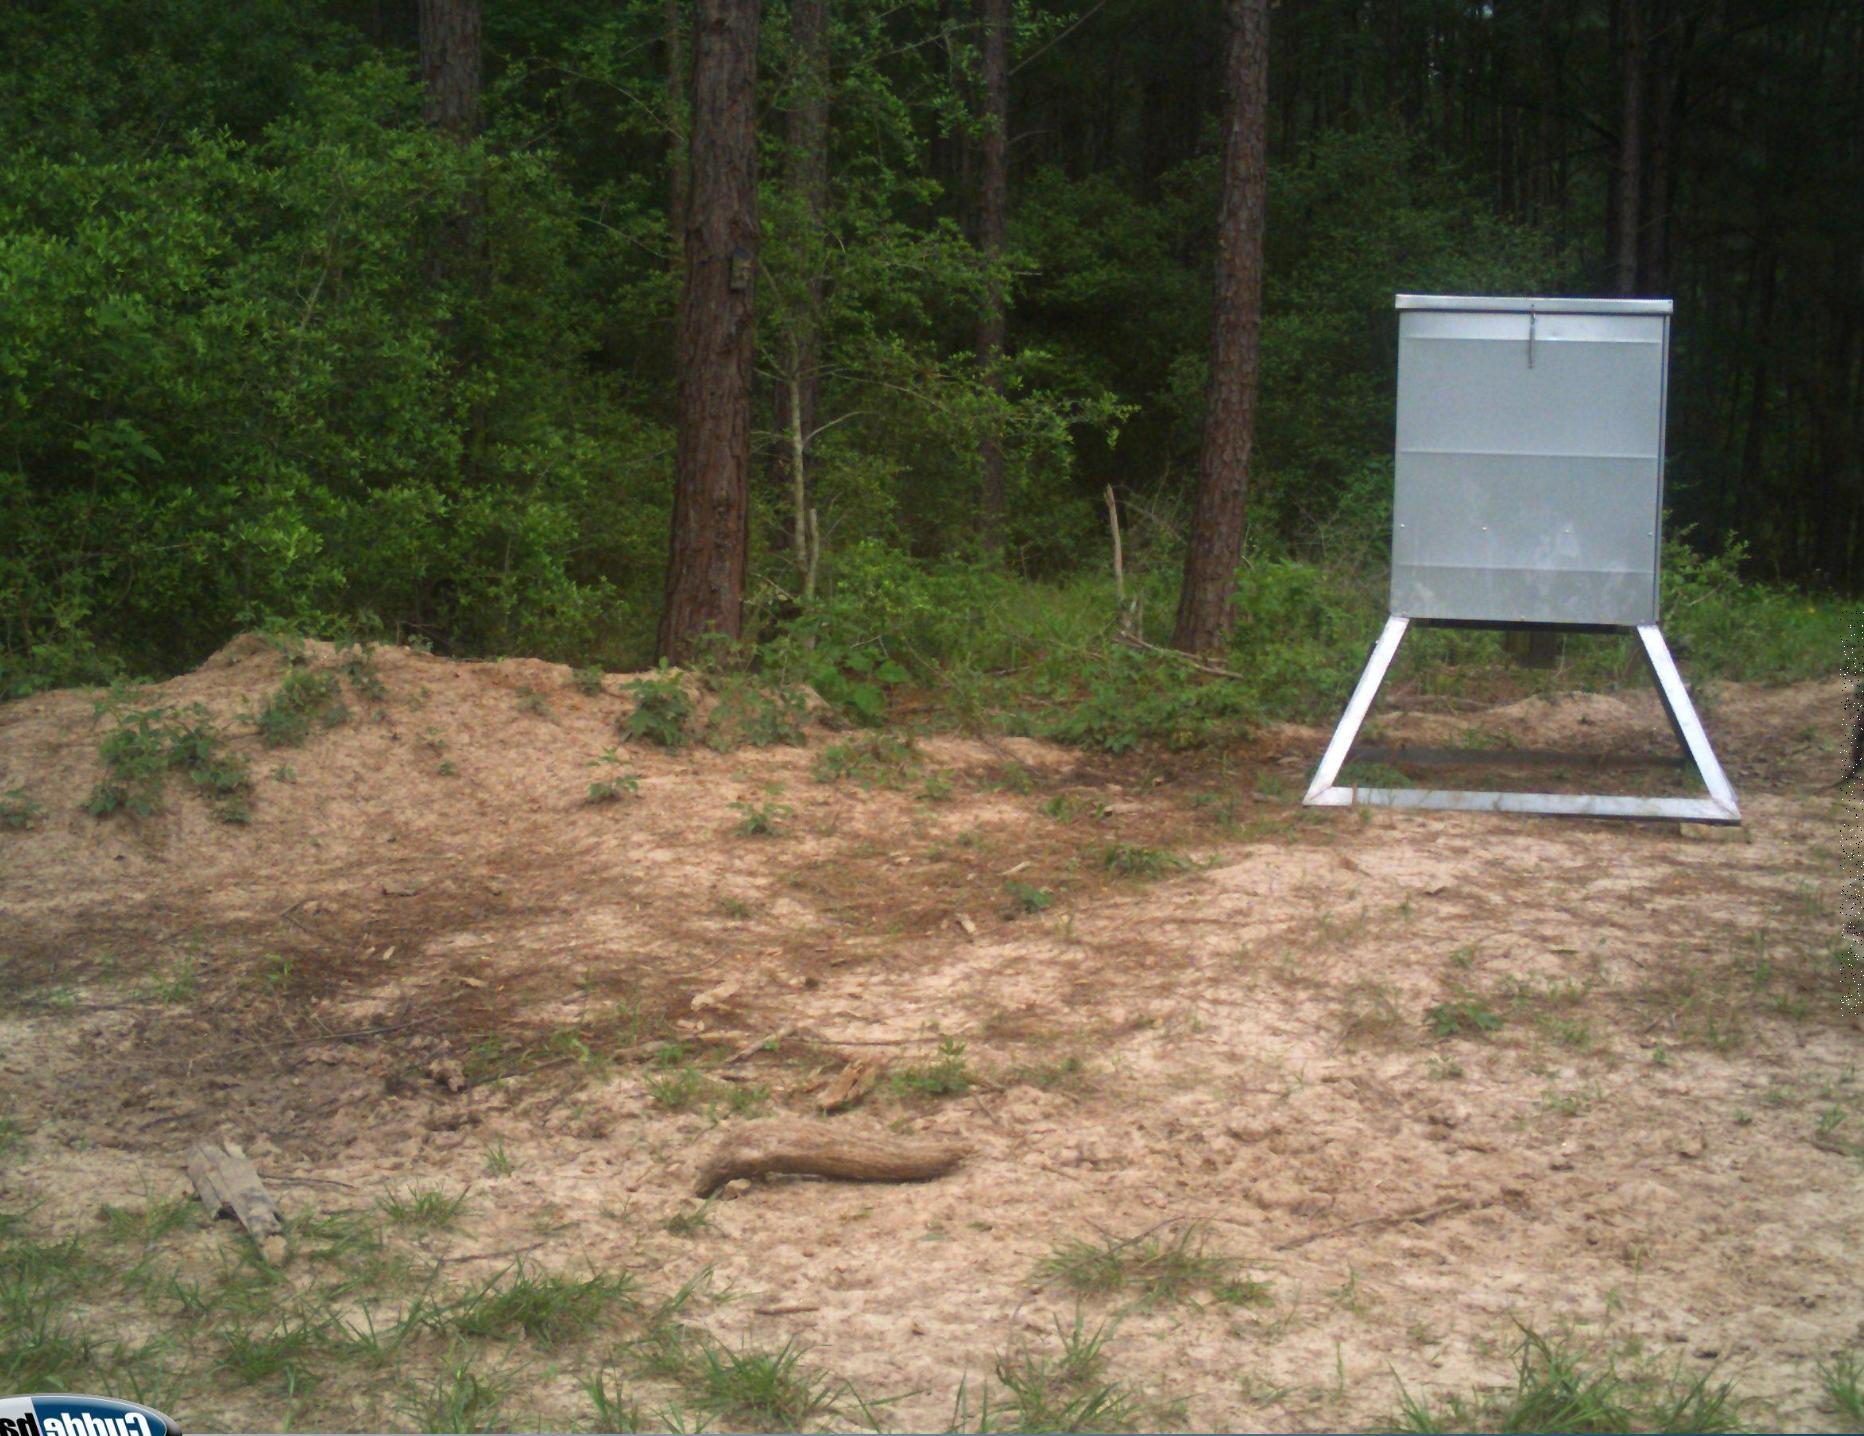Hog: (1840, 609, 1864, 1017)
